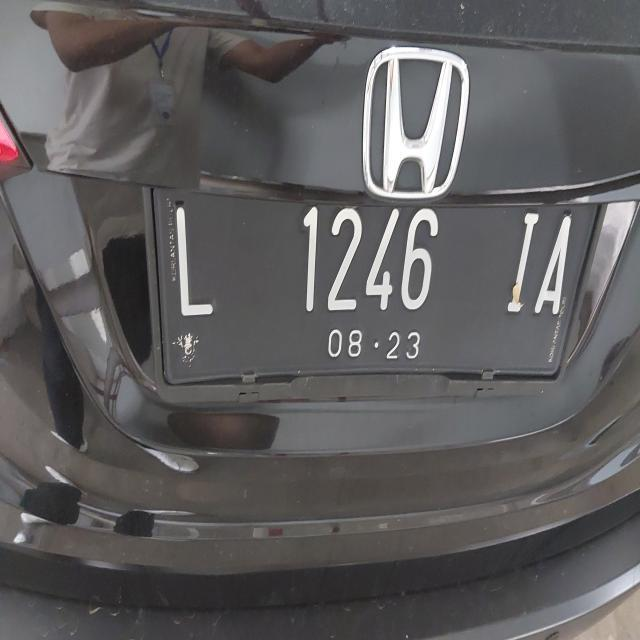1: (296, 182, 326, 335)
2: (326, 182, 364, 323)
4: (368, 181, 402, 324)
6: (399, 181, 440, 325)
A: (535, 182, 579, 349)
I: (508, 185, 538, 336)
L: (158, 181, 226, 350)
